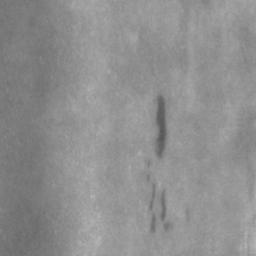Inclusion: (156, 95, 168, 157)
